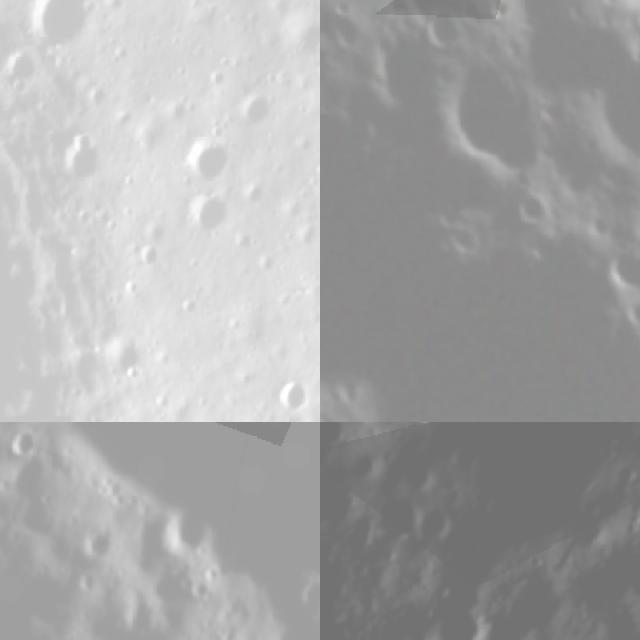crater: (431, 48, 562, 185), (361, 482, 433, 555), (26, 0, 93, 61), (406, 494, 467, 556), (62, 129, 115, 192), (188, 136, 245, 194), (181, 190, 233, 249), (392, 455, 444, 508), (159, 504, 211, 556), (510, 186, 556, 228), (419, 3, 460, 46), (601, 251, 640, 294), (273, 378, 310, 422), (241, 93, 278, 134), (563, 159, 596, 198), (331, 12, 362, 52), (445, 228, 488, 256), (81, 527, 113, 559), (334, 374, 364, 408), (430, 203, 468, 229), (297, 573, 320, 615), (6, 431, 44, 455), (618, 297, 640, 331), (392, 422, 443, 436), (486, 0, 512, 25), (586, 214, 612, 238), (72, 573, 96, 595), (320, 96, 337, 122), (599, 0, 619, 6)
